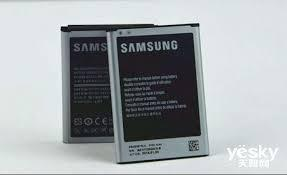battery: (104, 21, 220, 167), (58, 18, 157, 156)
